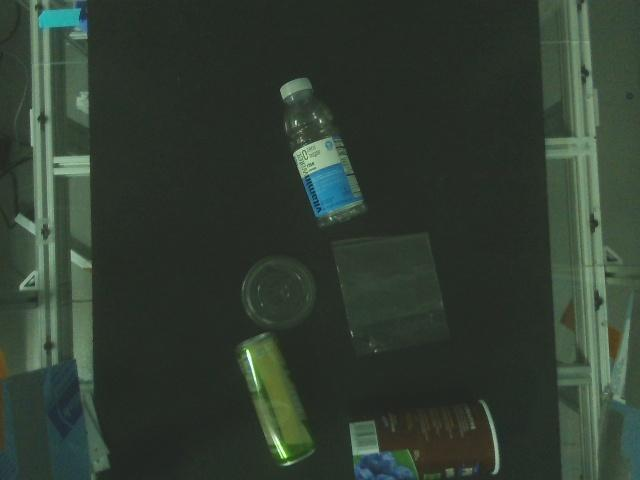cardboard: (348, 400, 502, 480)
metal: (235, 333, 316, 468)
plastic: (329, 232, 451, 359), (279, 76, 367, 229), (240, 256, 318, 332)
